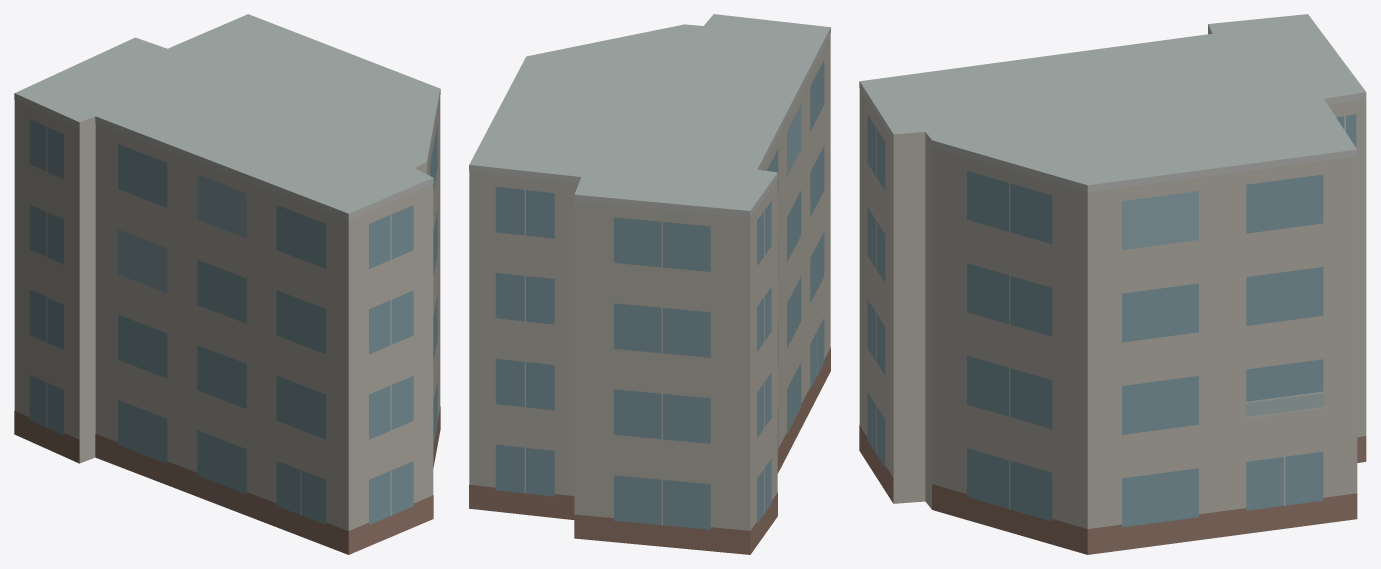
The model's file is survey-upis-32606112.glb.
3 renders of one model, left to right at view 1: azimuth 30°, elevation 25°; view 2: azimuth 150°, elevation 25°; view 3: azimuth 270°, elevation 25°, orthographic. The views are drawn at different scales.
Visible parts, largest first — view 1: survey-upis-32606112.tmp; view 2: survey-upis-32606112.tmp; view 3: survey-upis-32606112.tmp.
Boxes of the visible parts, x1=… form: survey-upis-32606112.tmp: x1=14, y1=14, x2=440, y2=554; survey-upis-32606112.tmp: x1=469, y1=14, x2=830, y2=554; survey-upis-32606112.tmp: x1=859, y1=14, x2=1366, y2=554.
Size of the model in its own units: 13.03 by 13.1 by 16.29.
